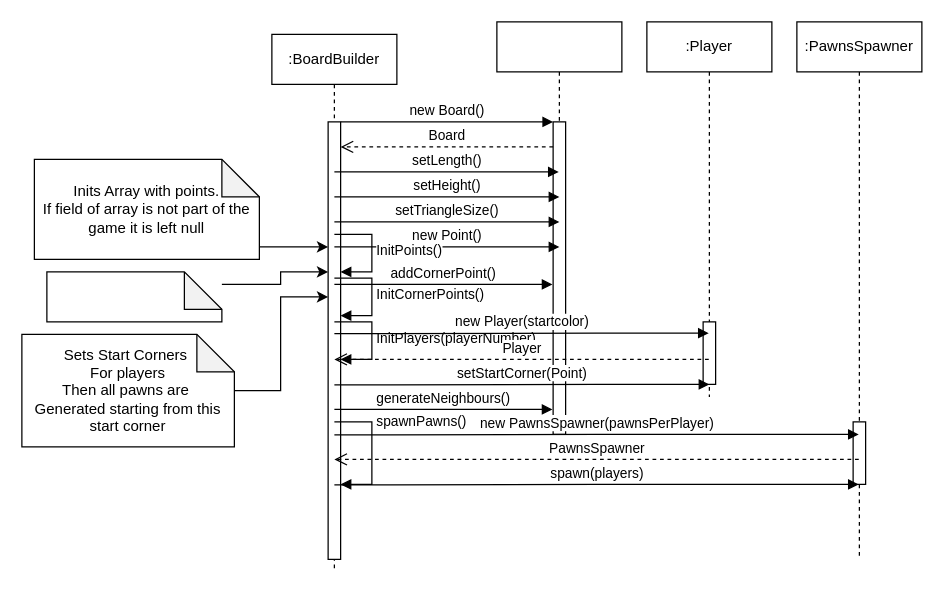
Image size: 944x594. Some labels were removed from this diagram. The box of each missing label's shape, as (x1, y1, x2, y2) in pixels:
:Board: (496, 21, 622, 434)
There are 6: (46, 271, 222, 322)
